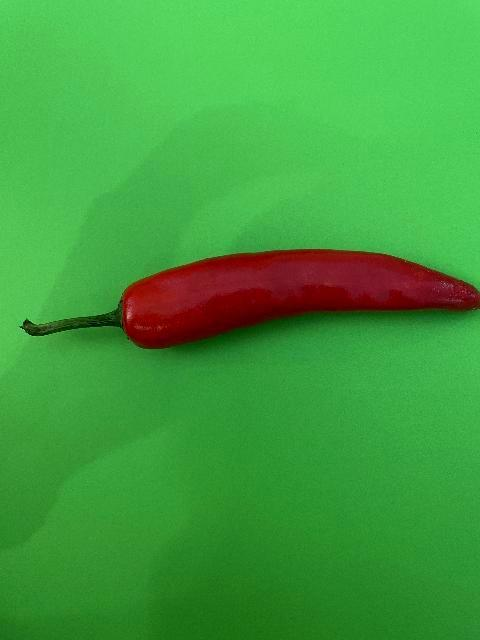chilli: (20, 245, 480, 352)
